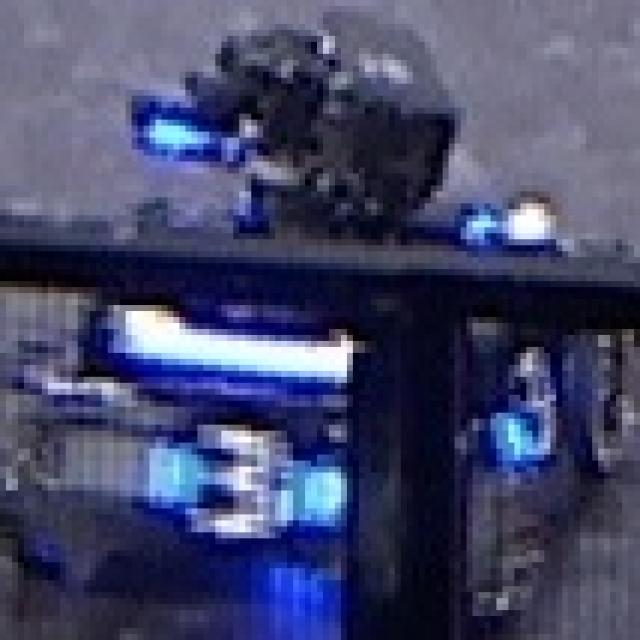B3: (149, 419, 335, 550), (485, 311, 580, 479)
